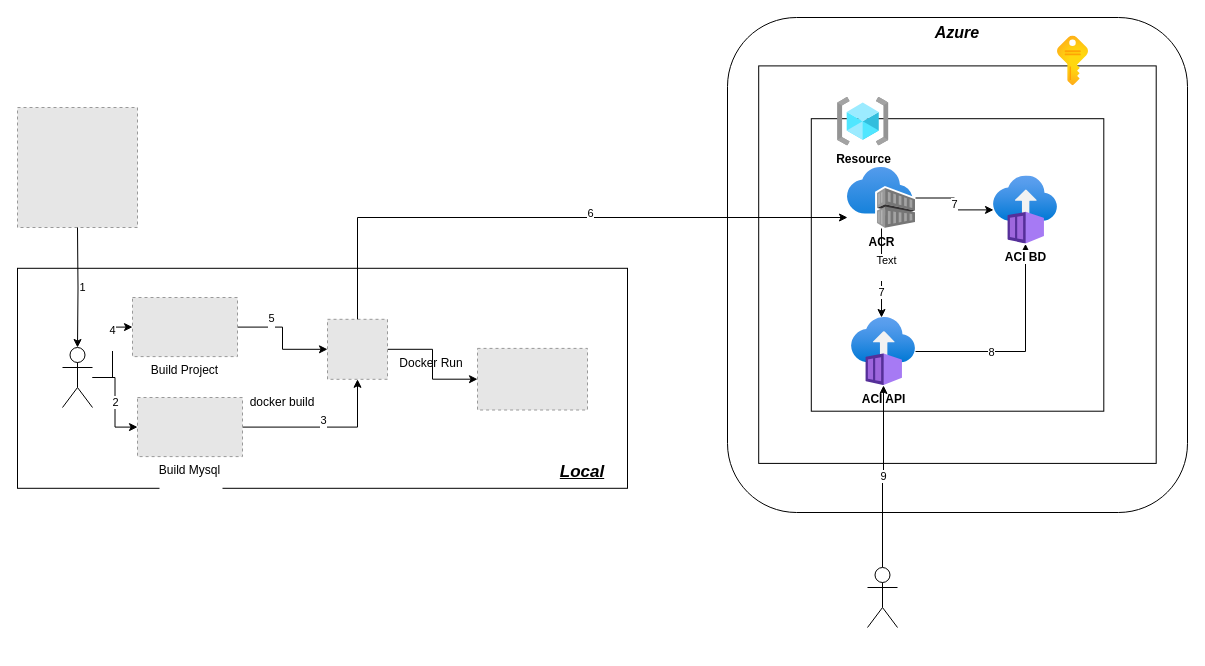
Image size: 1205x666. Some labels were removed from this diagram. Grey dashed boxes stand in for pictures. The shapes that lost their labels are listed below. From the top down, each one's centre as x and y in pixels, then its label:
At (1072,60): "Subscription".
At (77,377): "User".
At (882,597): "USUARIO".
